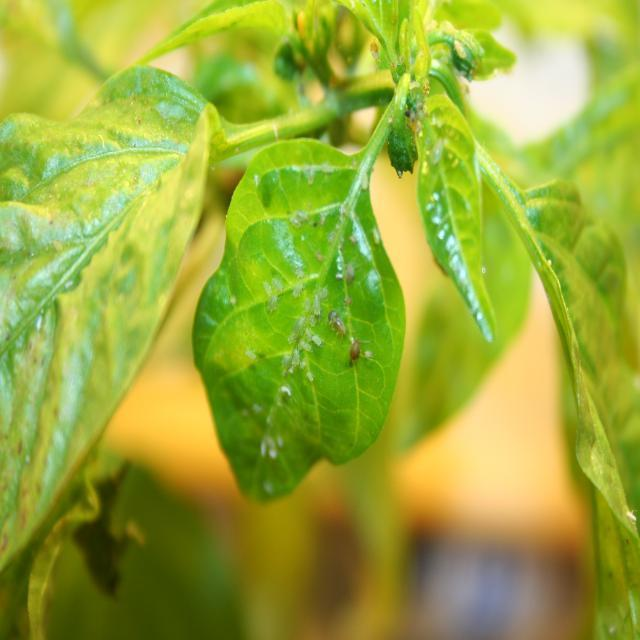Aphids: (344, 331, 367, 370), (339, 250, 355, 294)
